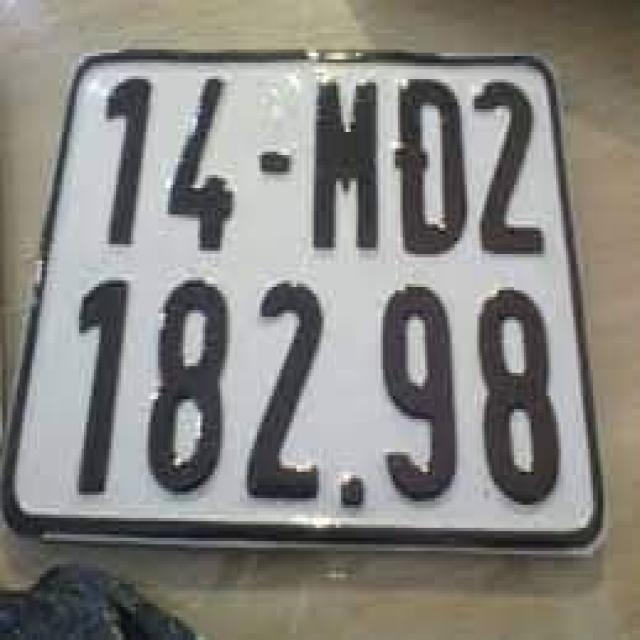1: (66, 270, 134, 502), (94, 66, 156, 251)
2: (242, 274, 329, 505), (469, 70, 548, 258)
4: (163, 69, 242, 254)
8: (472, 277, 564, 511), (144, 270, 232, 495)
9: (373, 277, 460, 505)
D: (396, 73, 470, 254)
M: (308, 68, 382, 252)
